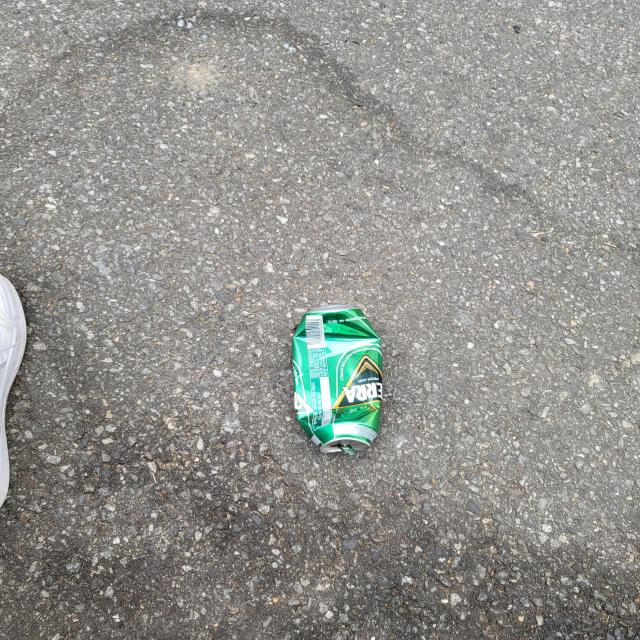can: (292, 305, 384, 454)
